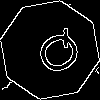Q: (25, 25, 87, 84)
